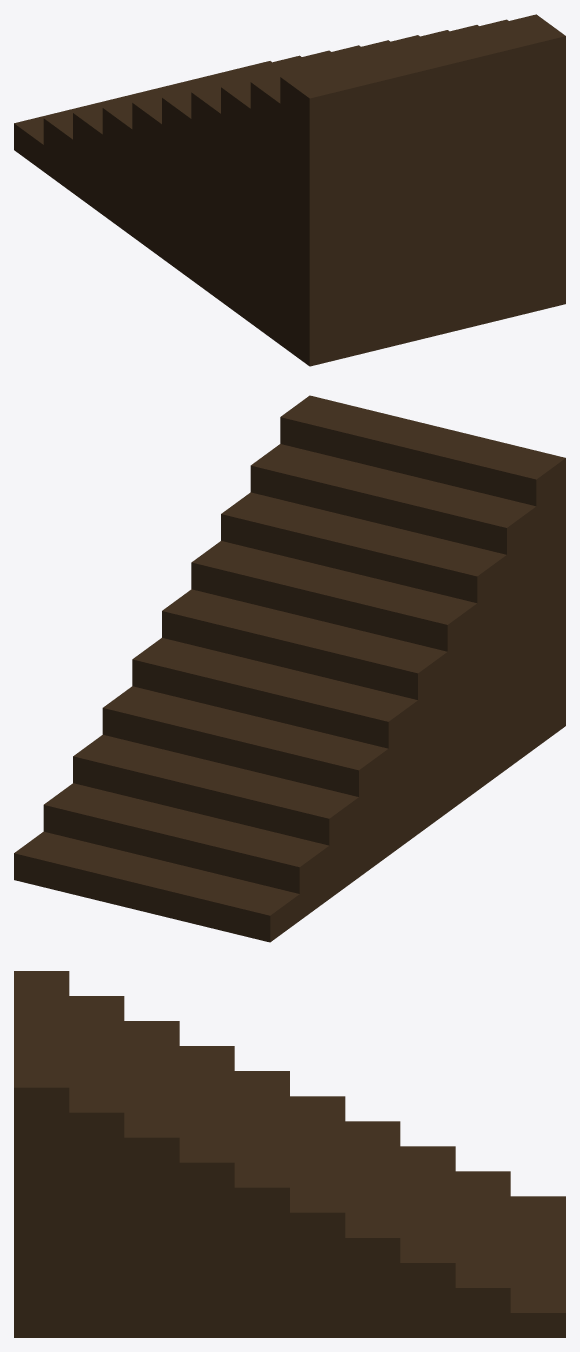
File: ConnectionStairs.fbx
3 views of the same model, one above another, from view 1: azimuth 30°, elevation 25°; view 2: azimuth 150°, elevation 25°; view 3: azimuth 270°, elevation 25° (orthographic). The views are drawn at different scales.
Visible parts, largest first — view 1: ConnectionUp; view 2: ConnectionUp; view 3: ConnectionUp.
Boxes of the visible parts, x1,y1,x2,y2 form: ConnectionUp: (14,14,565,366); ConnectionUp: (14,395,565,942); ConnectionUp: (14,971,565,1337).
Bounding box in the file's own units: 200 × 200 × 400.
